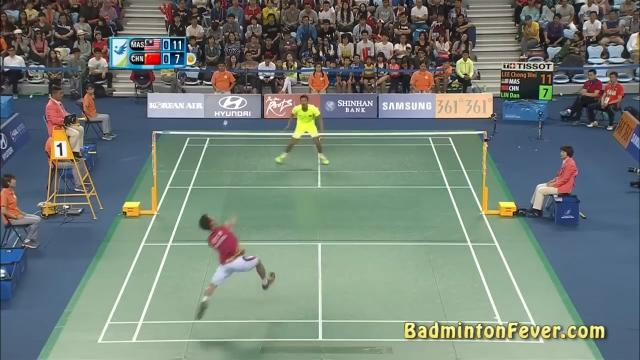Shuttlecock: (221, 118, 231, 128)
